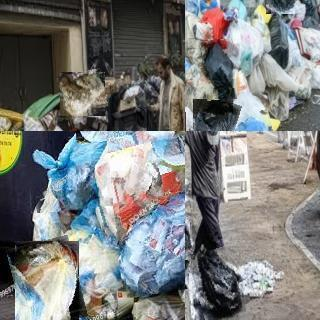Garbage: (87, 131, 185, 236), (53, 217, 149, 320), (116, 192, 185, 295), (29, 131, 111, 211), (10, 238, 83, 320), (192, 247, 242, 320), (58, 70, 107, 118), (202, 39, 236, 101), (75, 131, 184, 149), (188, 96, 237, 131), (128, 293, 185, 320), (226, 111, 279, 131), (263, 0, 297, 15), (185, 216, 191, 257)
